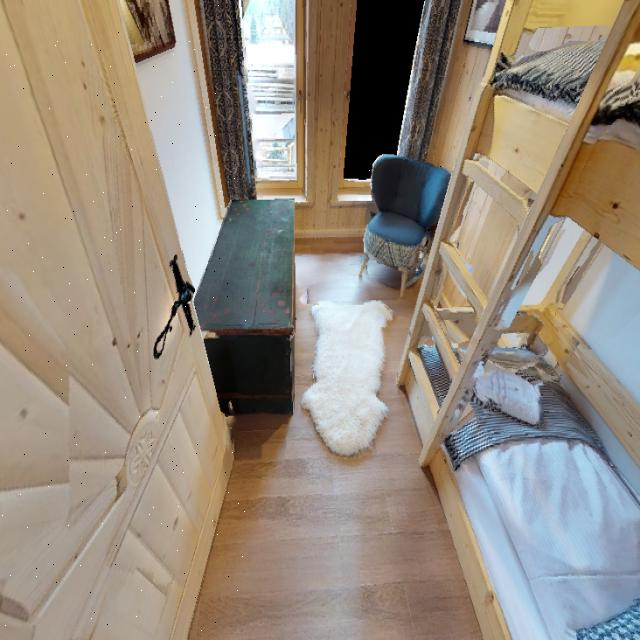door: (0, 0, 247, 640)
sofa: (357, 137, 459, 308)
